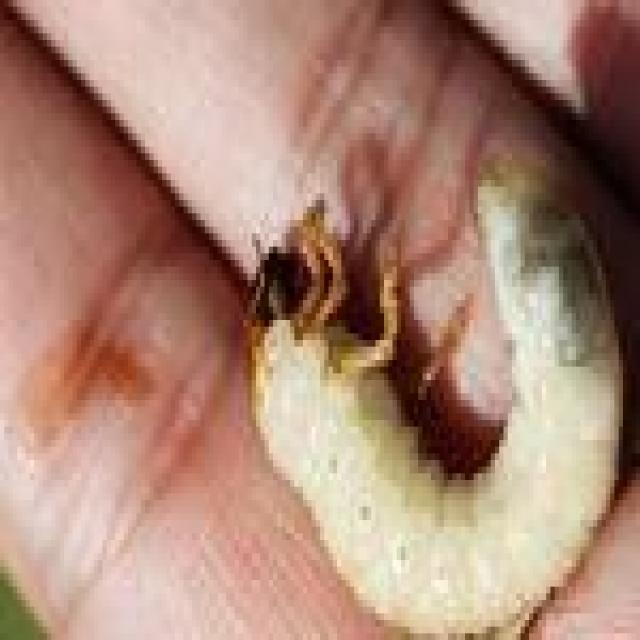Grub-Adult-: (228, 153, 635, 633)
